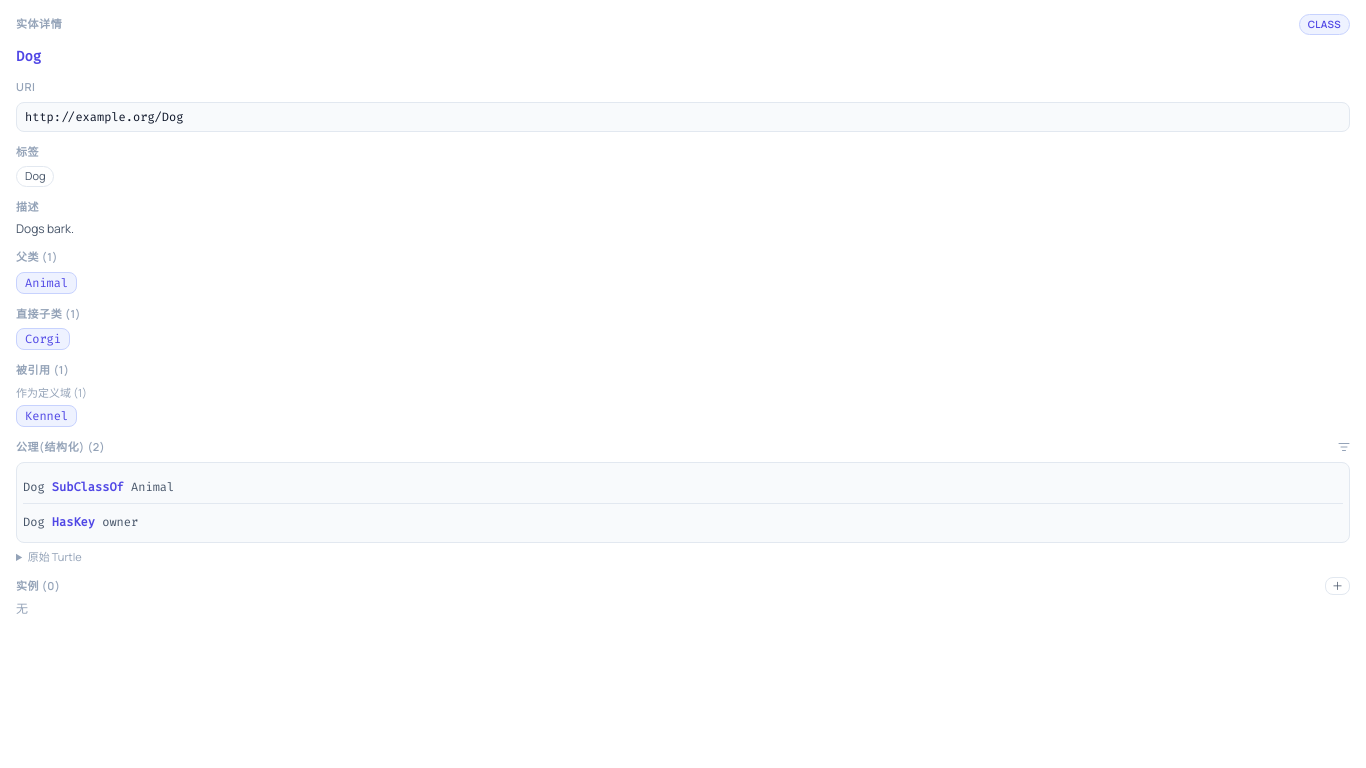
Test: InspectorPanel › renders structured axiom rows with kind badges and raw Turtle fallback
The image size is (1366, 768).
Expected: the text "公理(结构化) (2)" is shown, top-left (16, 439), bottom-right (105, 456)
Click the heading "原始 Turtle" at (55, 556), box top-left (28, 548), bottom-right (82, 564)
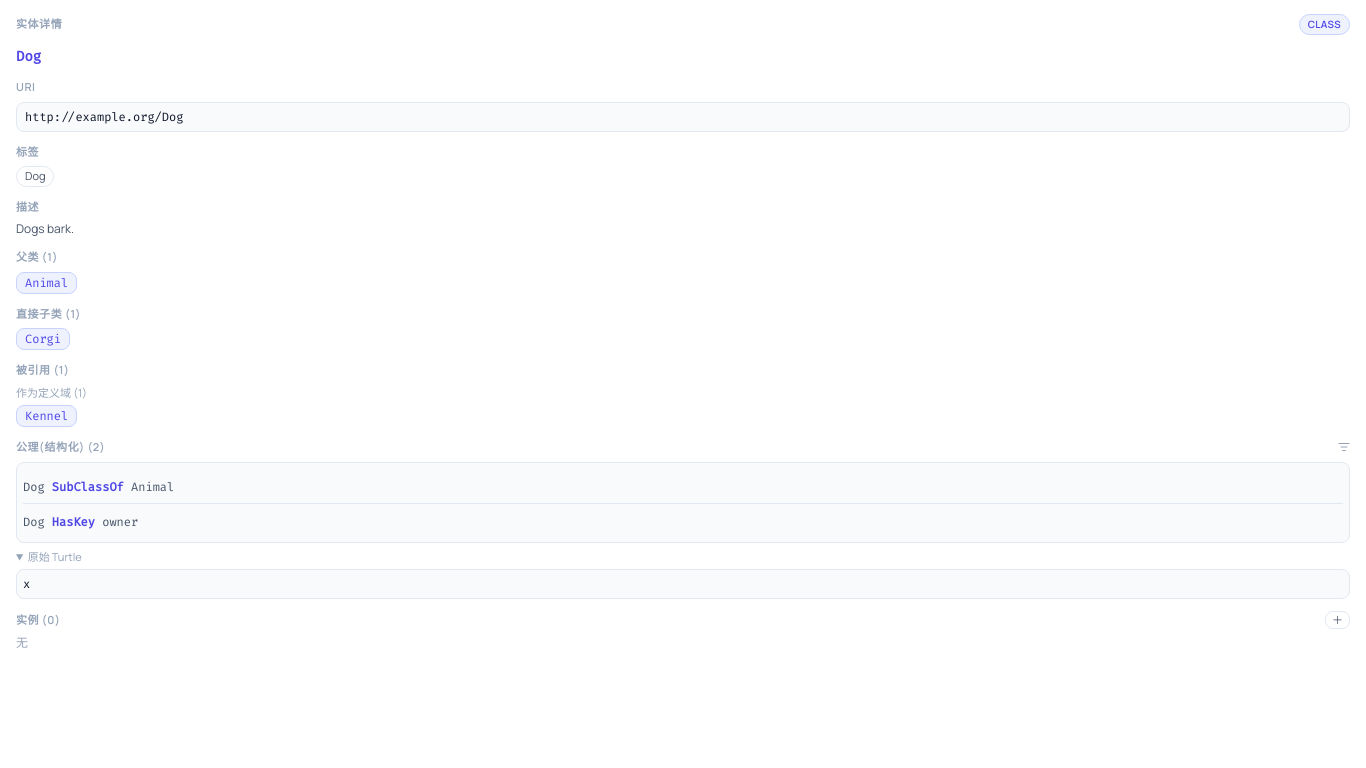
Result: the text "x" is shown at top-left (16, 569), bottom-right (1350, 599)
